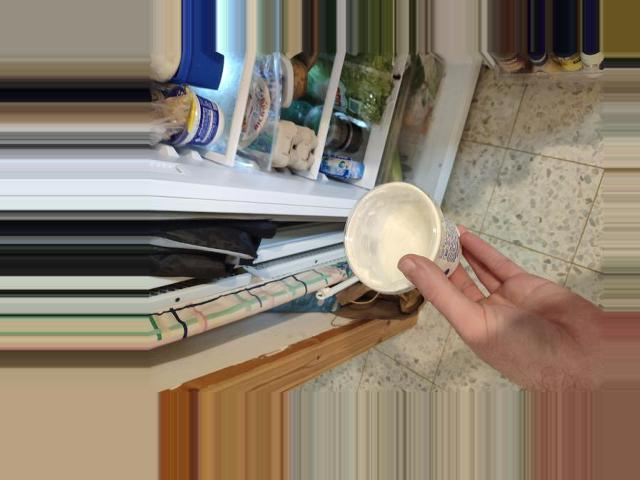cotage: (339, 202, 461, 298)
